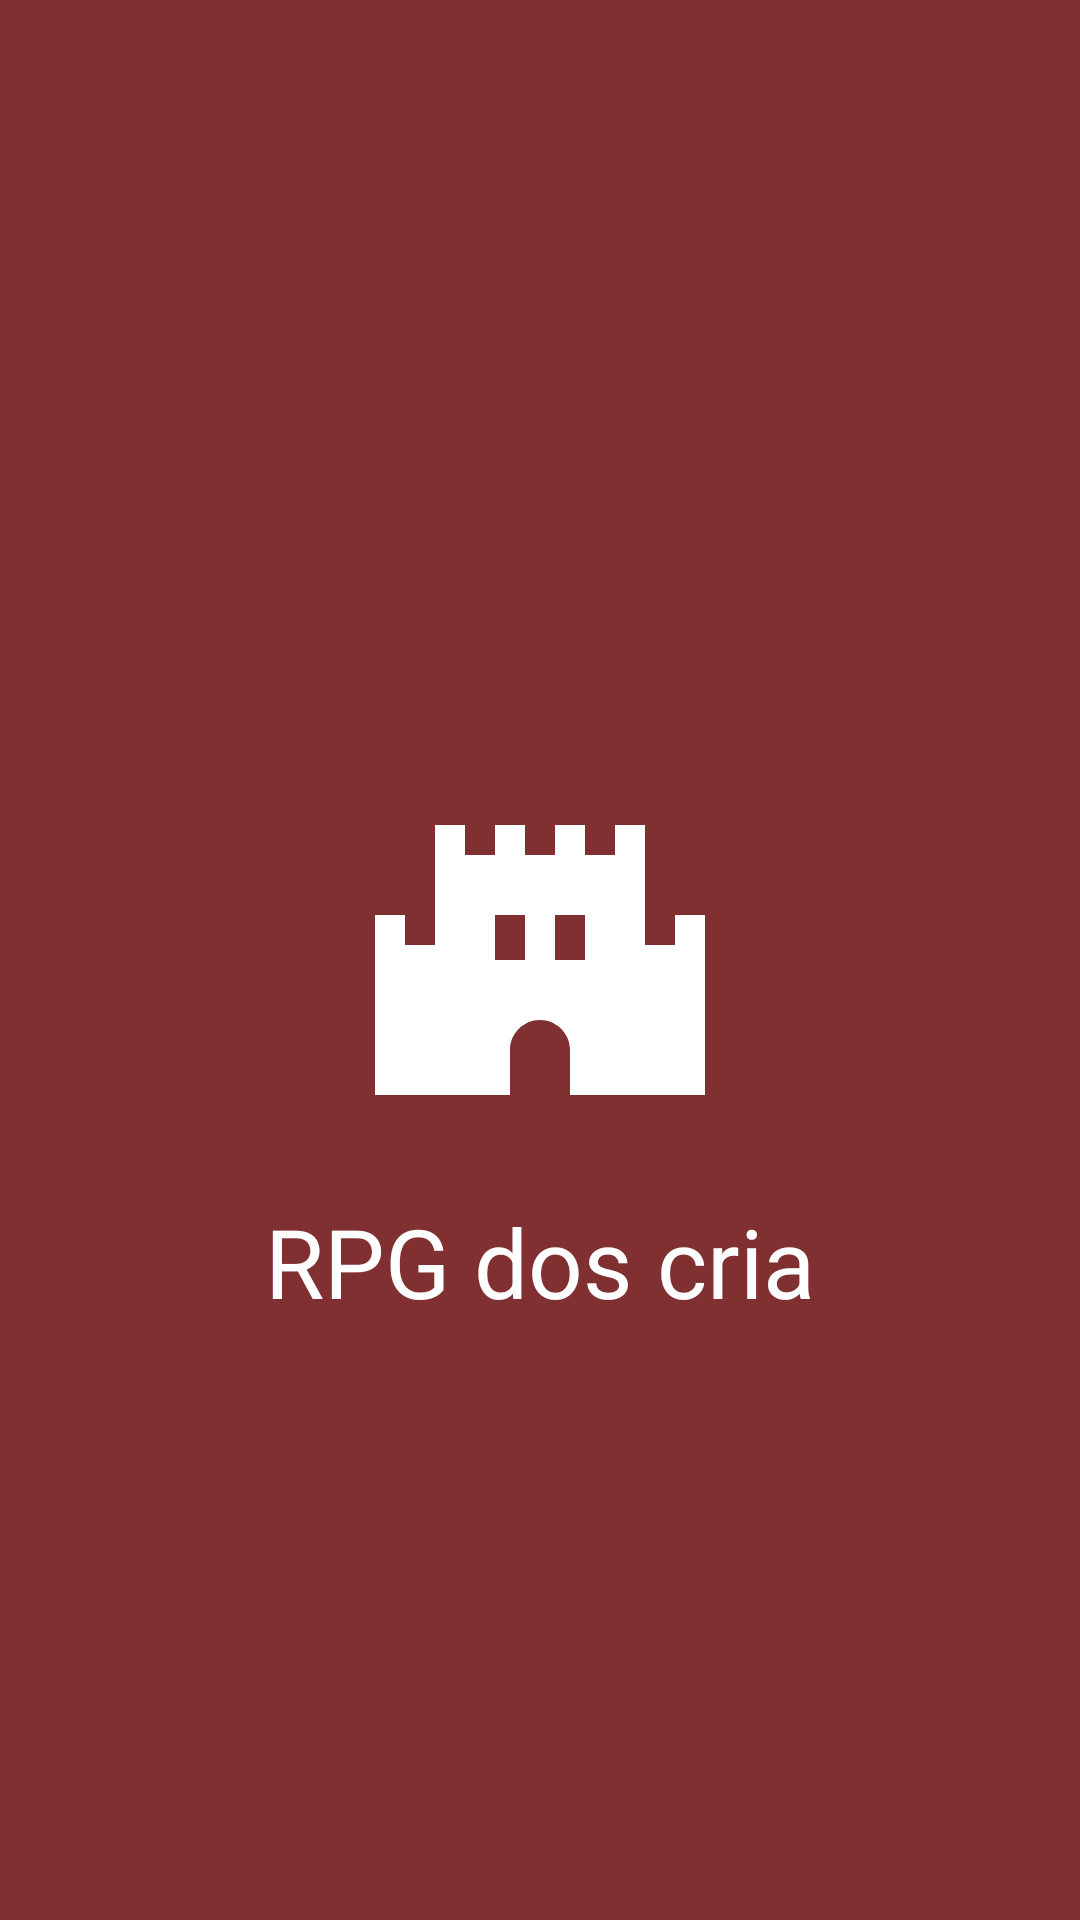

Named icons in this screenshot (1080x1920) and their bounding boxes, (x1, y1, x2, y2):
castle: (375, 825, 705, 1095)
